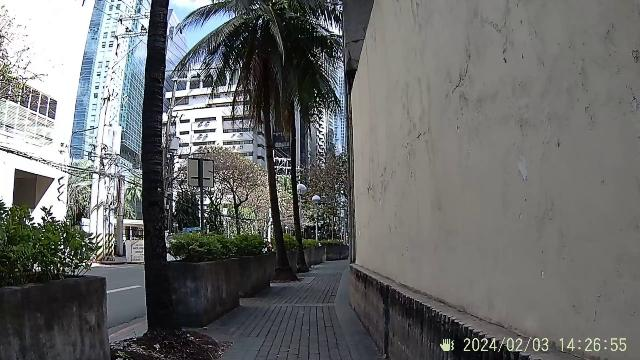lamp_post: (310, 193, 322, 237), (297, 182, 307, 230)
potted_plant: (0, 217, 100, 360), (166, 238, 238, 320), (227, 233, 281, 293)
street_sign: (186, 156, 217, 224)
utility_post: (138, 0, 174, 338)
